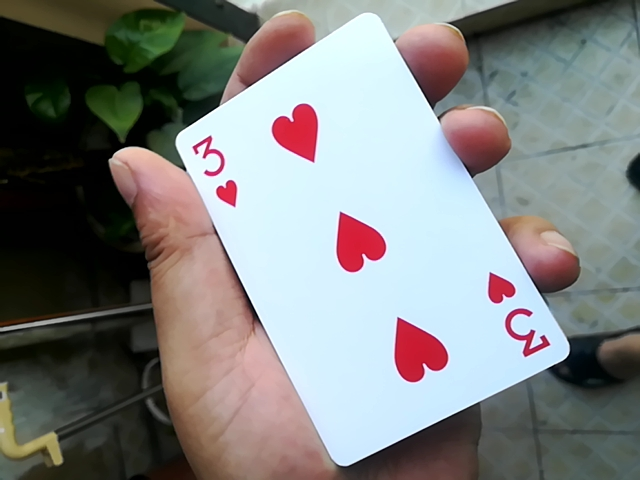hx 3: (166, 19, 558, 467)
